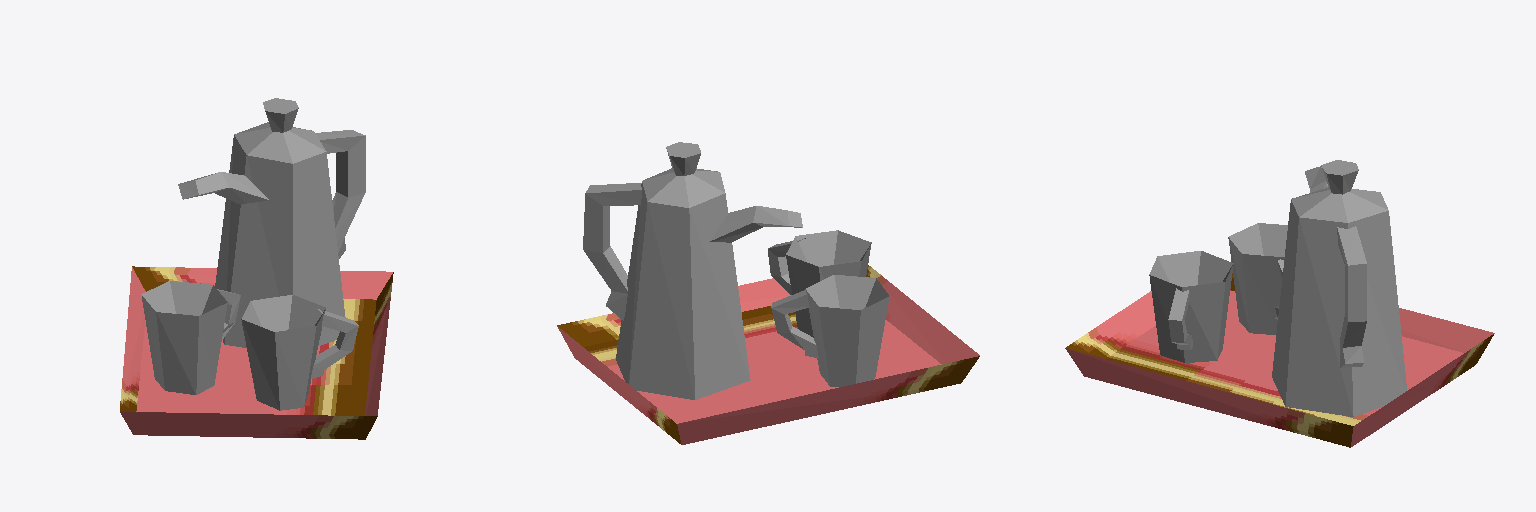
The picture shows the model from 3 angles: view 1: azimuth 30°, elevation 25°; view 2: azimuth 150°, elevation 25°; view 3: azimuth 270°, elevation 25°; orthographic projection.
Visible parts, largest first — view 1: part1_texture1, part2_texture2, part0_texture0; view 2: part1_texture1, part2_texture2, part0_texture0; view 3: part1_texture1, part2_texture2, part0_texture0.
Boxes of the visible parts, x1=… form: part1_texture1: x1=178, y1=98, x2=365, y2=347; part2_texture2: x1=120, y1=266, x2=393, y2=439; part0_texture0: x1=141, y1=281, x2=358, y2=410; part1_texture1: x1=583, y1=142, x2=802, y2=399; part2_texture2: x1=557, y1=265, x2=979, y2=444; part0_texture0: x1=768, y1=230, x2=889, y2=386; part1_texture1: x1=1272, y1=160, x2=1406, y2=416; part2_texture2: x1=1065, y1=273, x2=1494, y2=447; part0_texture0: x1=1149, y1=223, x2=1287, y2=362.
Bounding box in the file's own units: 0.5781 × 0.3633 × 0.6172.
3 materials, 1 textured.